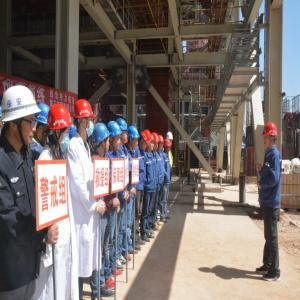blue: (35, 104, 51, 144), (94, 123, 111, 157), (108, 121, 122, 153), (128, 126, 140, 152), (118, 118, 129, 145)
red: (49, 104, 71, 154), (74, 98, 94, 141), (263, 123, 279, 152), (141, 130, 152, 152), (154, 133, 160, 153), (165, 138, 172, 154), (149, 136, 155, 153), (159, 135, 165, 152)
white: (4, 84, 38, 152), (167, 133, 174, 145)
